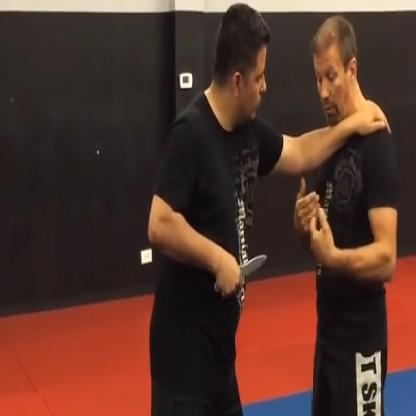knife: (213, 247, 269, 302)
